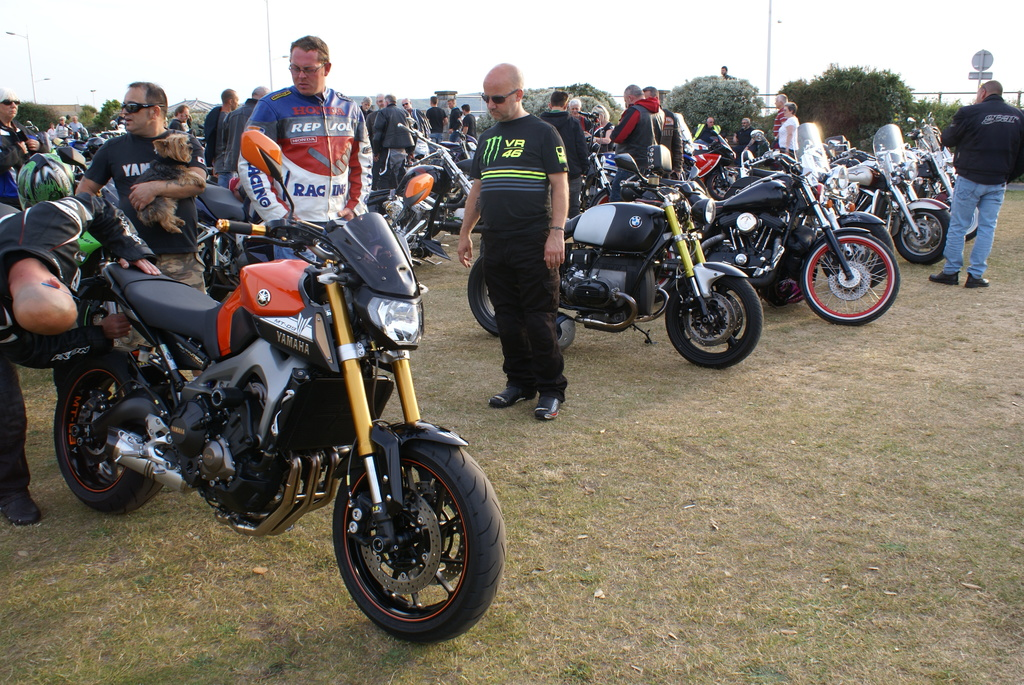Person: (0, 34, 1022, 524)
